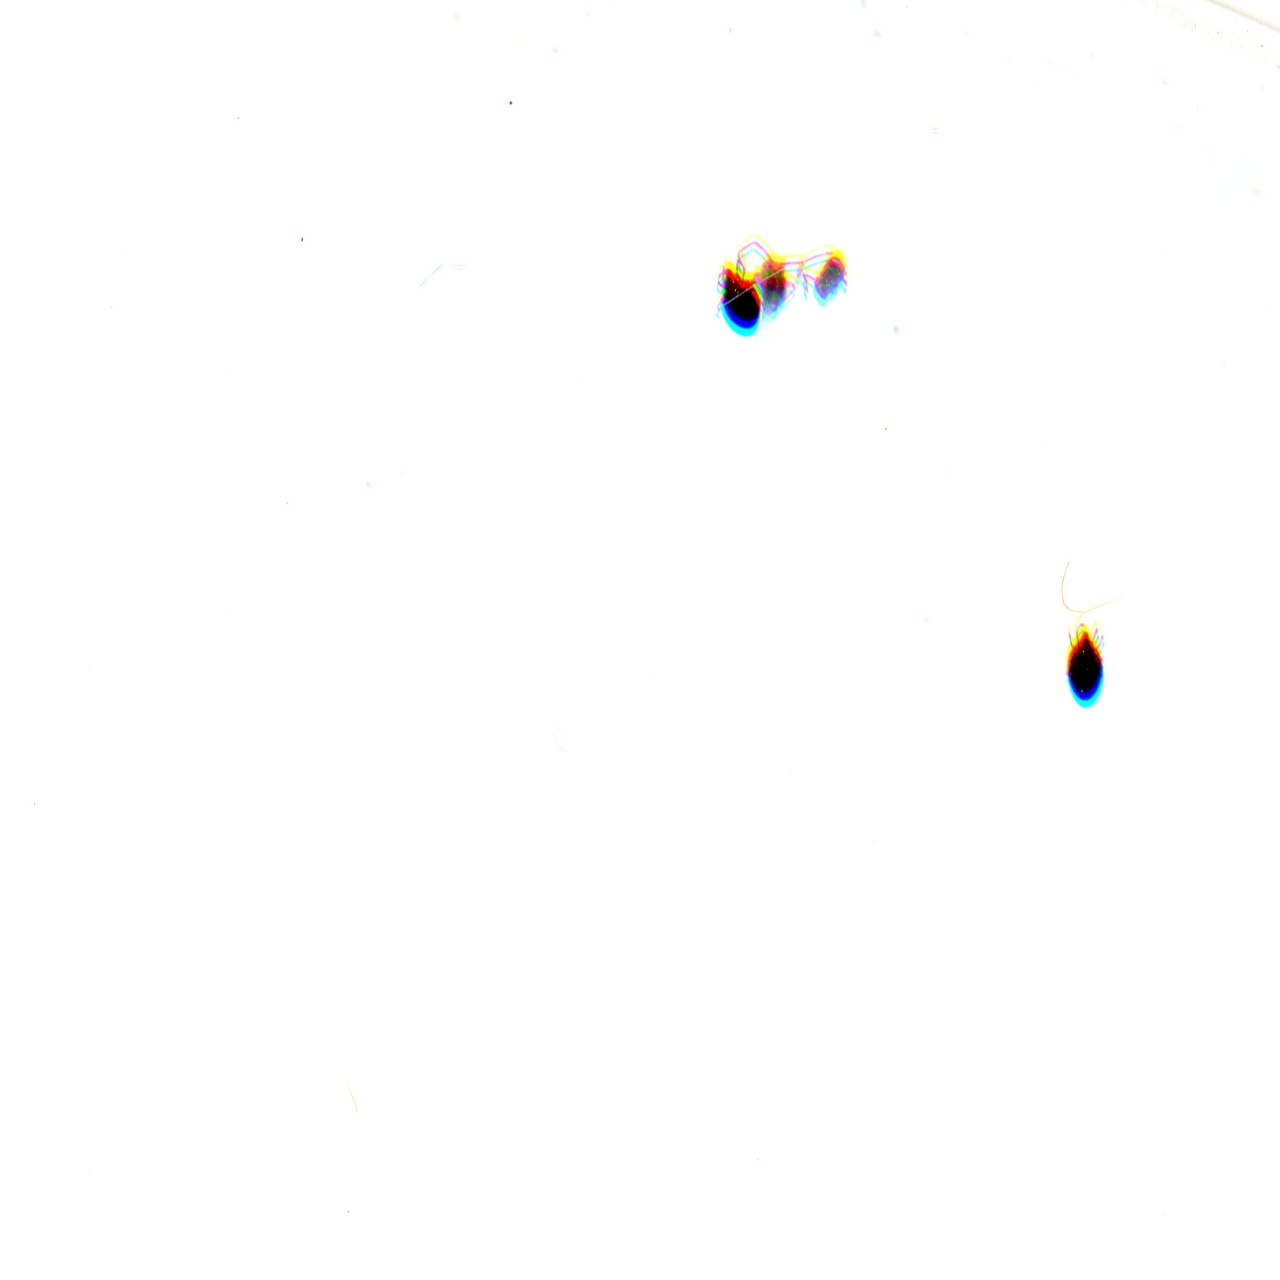arthropod: (719, 225, 836, 331), (695, 246, 776, 345), (1061, 618, 1112, 714), (798, 247, 853, 308)
